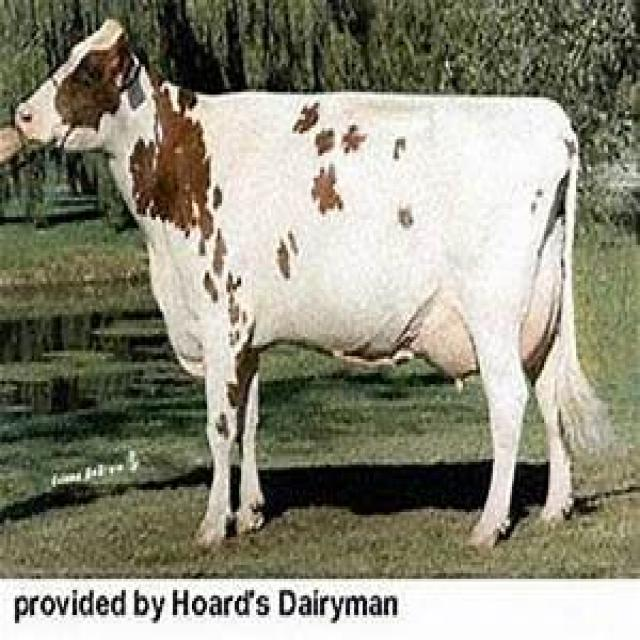cow: (0, 19, 614, 551)
